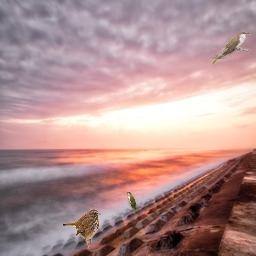Cuckoo: (211, 31, 251, 64), (127, 192, 138, 214)
Sparrow: (62, 209, 101, 249)
